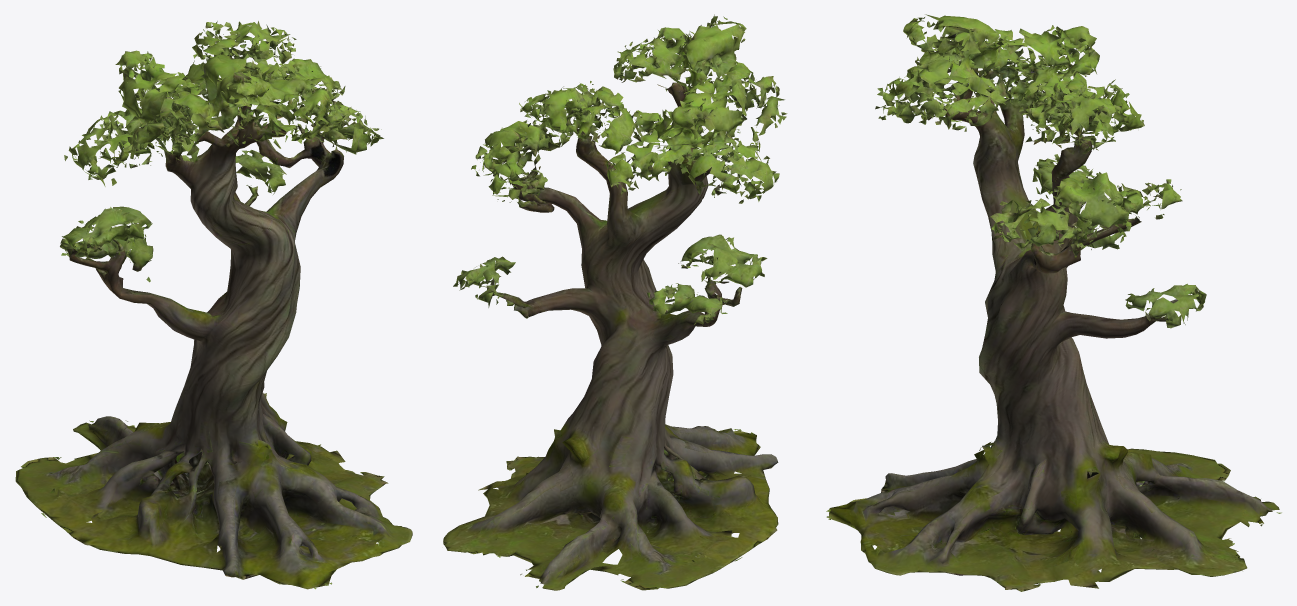
The model's file is old_tree.glb.
3 views of the same model, side by side, from view 1: azimuth 30°, elevation 25°; view 2: azimuth 150°, elevation 25°; view 3: azimuth 270°, elevation 25° (orthographic). The views are drawn at different scales.
Parts seen in each view (by area): view 1: model; view 2: model; view 3: model.
Part boxes in pixels (x1,y1,x2,y2): model: (15,21,412,589); model: (443,14,787,590); model: (826,14,1281,591).
Size of the model in its own units: 1.25 by 1.96 by 1.71.
1 material, 1 textured.
